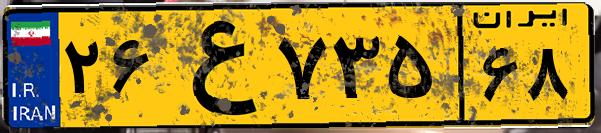2: (57, 26, 110, 100)
3: (330, 28, 385, 110)
5: (385, 28, 445, 110)
6: (475, 38, 525, 113), (110, 28, 158, 98)
7: (270, 28, 330, 110)
8: (525, 38, 570, 115)
ع: (158, 12, 270, 120)
